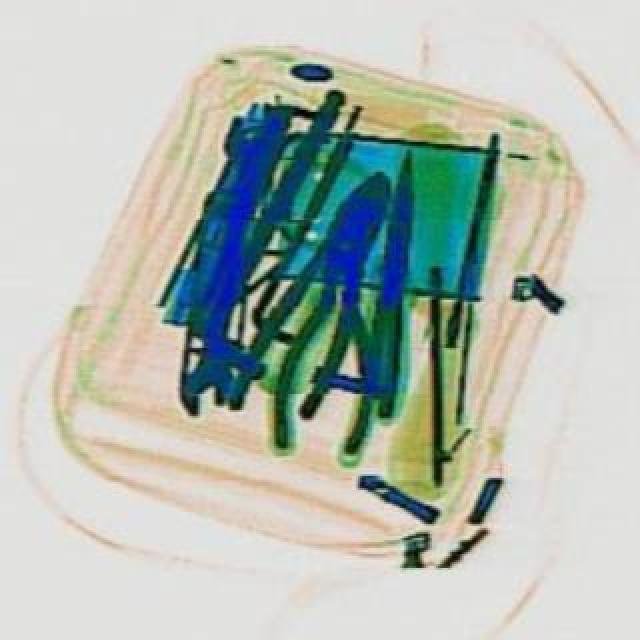scissors: (168, 236, 254, 418), (212, 110, 276, 198)
wrench: (216, 154, 422, 438), (262, 214, 398, 456)
